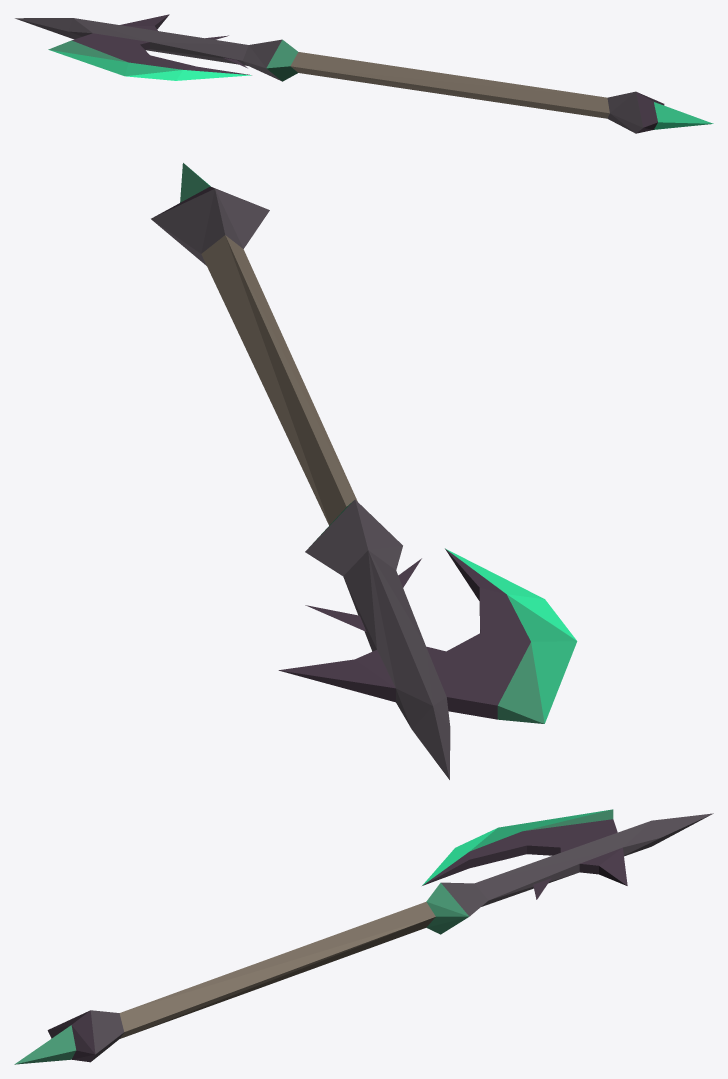
Rendered from player_noxious_halberd.glb.
3 views of the same model, one above another, from view 1: azimuth 30°, elevation 25°; view 2: azimuth 150°, elevation 25°; view 3: azimuth 270°, elevation 25° (orthographic). The views are drawn at different scales.
Bounding box in the file's own units: 126 × 11.99 × 146.
1 material, 1 textured.
